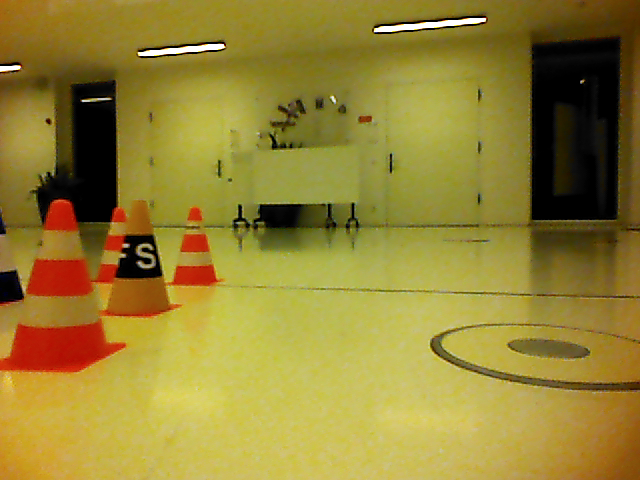orangeconesmall: (10, 195, 111, 369), (173, 206, 220, 287), (97, 205, 119, 282)
